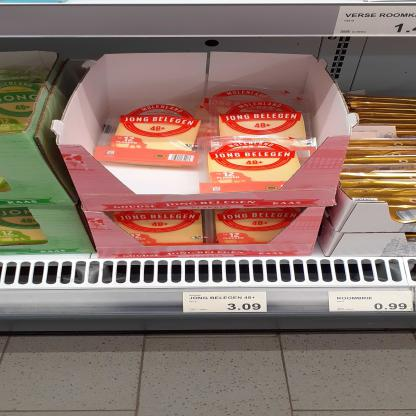prtg: (334, 7, 416, 37), (329, 292, 415, 313), (183, 293, 268, 314)
